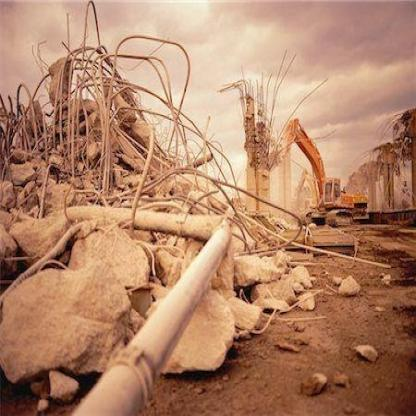rebar: (0, 0, 244, 213), (208, 47, 341, 166), (0, 220, 90, 309), (217, 172, 305, 257), (144, 190, 249, 253), (147, 166, 248, 228), (243, 289, 325, 334), (127, 123, 157, 240), (139, 239, 189, 278), (373, 110, 404, 143), (232, 232, 254, 252), (237, 287, 257, 308)
